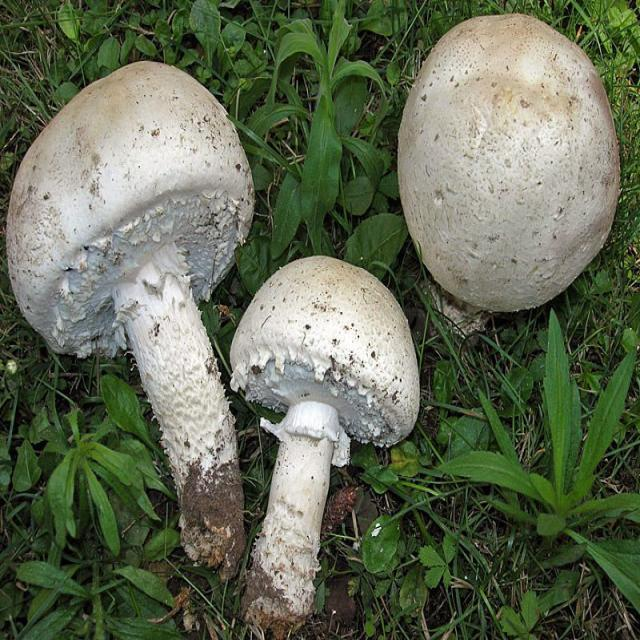Agaricus bisporus: (5, 60, 257, 570), (235, 252, 421, 630), (402, 13, 620, 319)
